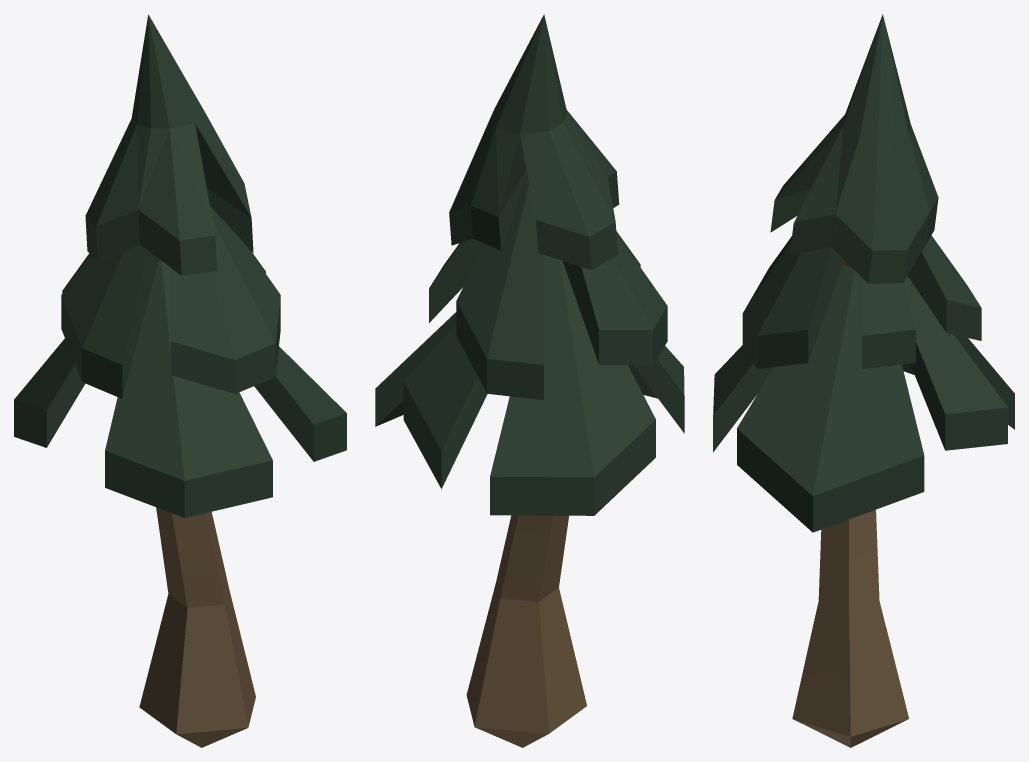
Rendered from Arbol_02.glb.
3 renders of one model, left to right at view 1: azimuth 30°, elevation 25°; view 2: azimuth 150°, elevation 25°; view 3: azimuth 270°, elevation 25°, orthographic. The views are drawn at different scales.
Parts seen in each view (by area): view 1: SM_Env_Tree_Pine_03_2; view 2: SM_Env_Tree_Pine_03_2; view 3: SM_Env_Tree_Pine_03_2.
Boxes of the visible parts, x1,y1,x2,y2 form: SM_Env_Tree_Pine_03_2: (14,14,346,747); SM_Env_Tree_Pine_03_2: (375,14,684,747); SM_Env_Tree_Pine_03_2: (713,14,1014,747).
Bounding box in the file's own units: 1.19 × 3.11 × 1.19.
1 material, 1 textured.
